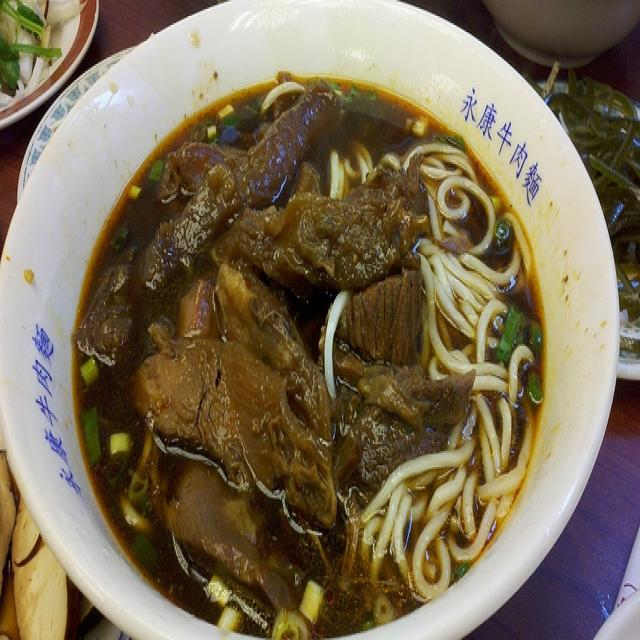面条主食: (34, 34, 590, 629)
